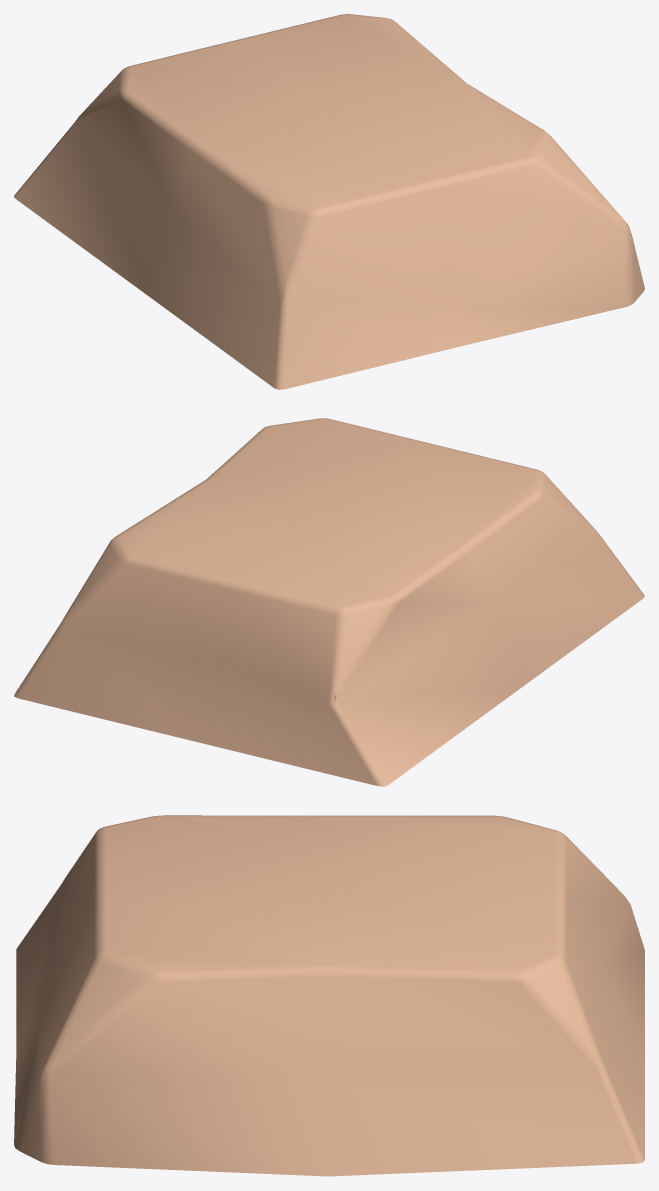
File: Stone5.fbx
The picture shows the model from 3 angles, top to bottom: view 1: azimuth 30°, elevation 25°; view 2: azimuth 150°, elevation 25°; view 3: azimuth 270°, elevation 25°; orthographic projection. The views are drawn at different scales.
Visible parts, largest first — view 1: Stone5_Lp; view 2: Stone5_Lp; view 3: Stone5_Lp.
Boxes of the visible parts, box(x1,y1,x2,y2) form: Stone5_Lp: box(14, 14, 644, 389); Stone5_Lp: box(14, 418, 644, 786); Stone5_Lp: box(14, 815, 644, 1176).
Size of the model in its own units: 68.68 by 22.28 by 79.36.
